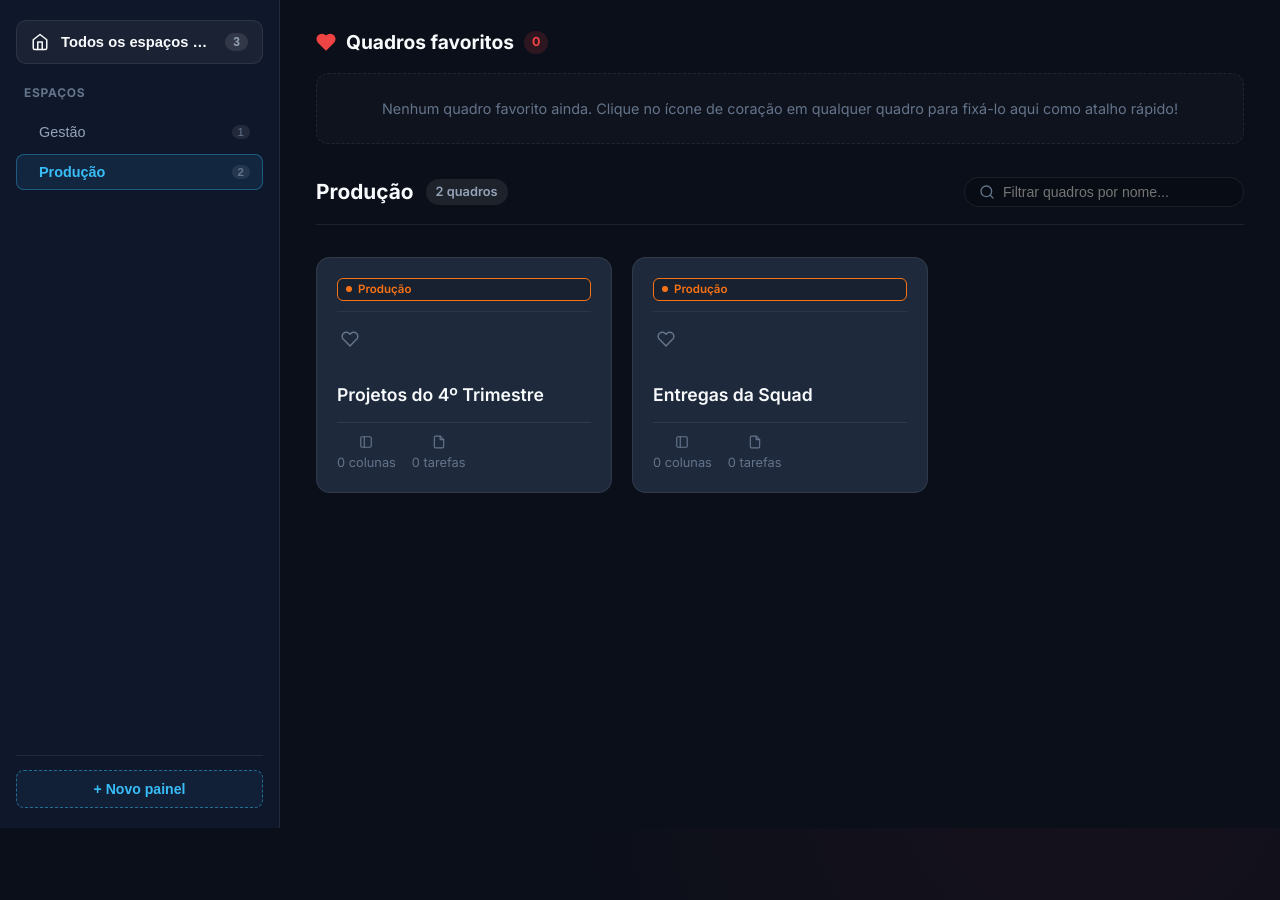
WorkspaceHub Component (Feature 029 - US1 MVP) › filters boards in real time when typing in search pill
Type "Entregas" into the field with placeholder "Filtrar quadros por nome..." at (1116, 192), box [1003,184,1229,200]
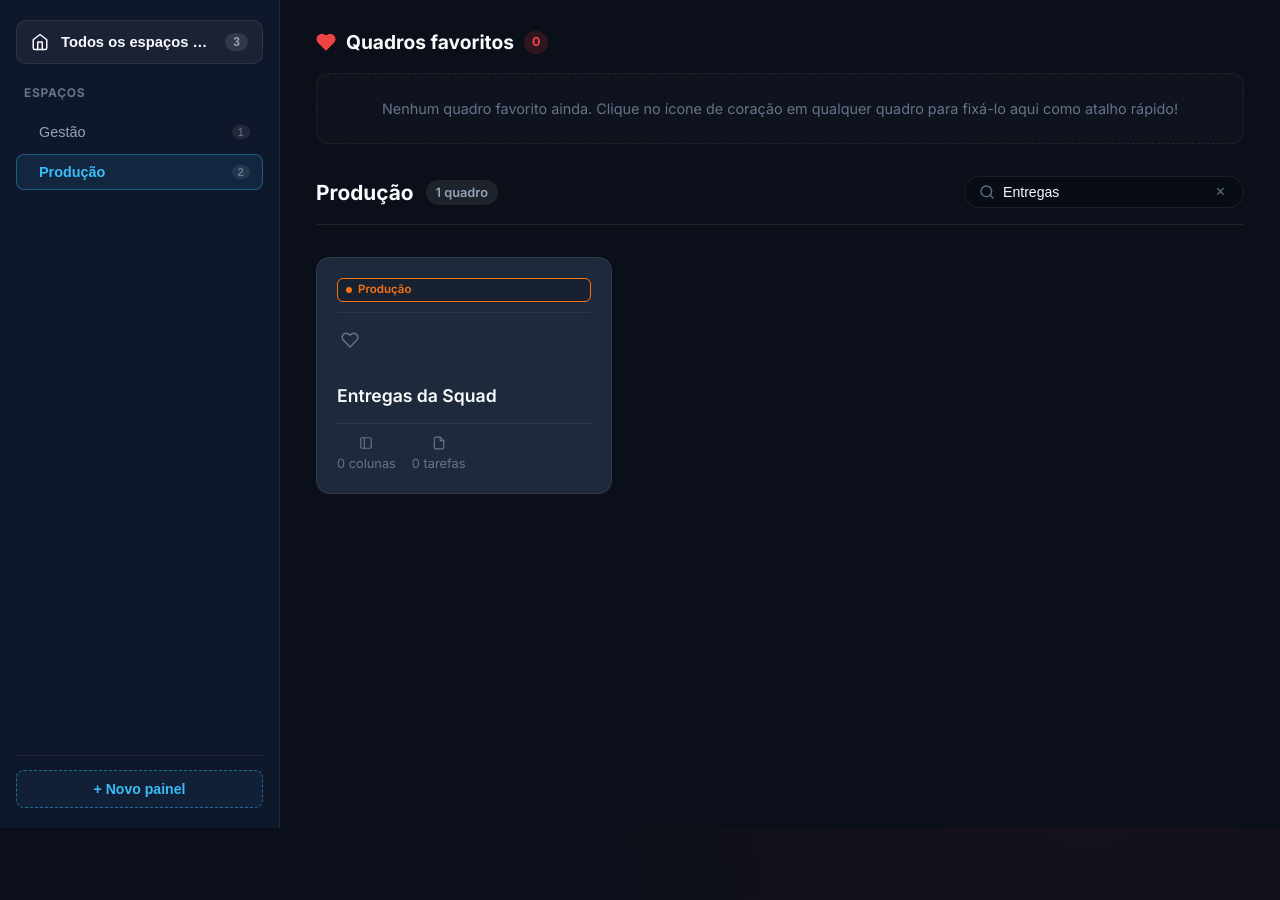
Expected: the heading "Entregas da Squad" is shown, [337,385,497,406]
Result: the heading "Projetos do 4º Trimestre" is gone
